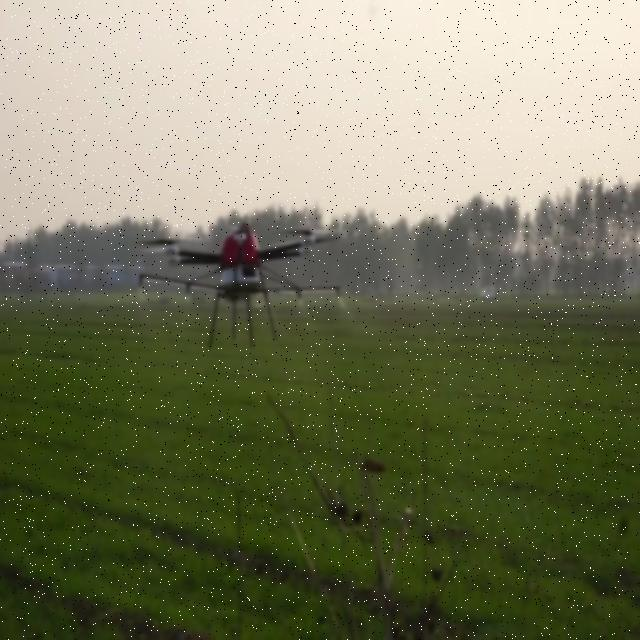UAV: (135, 222, 341, 350)
